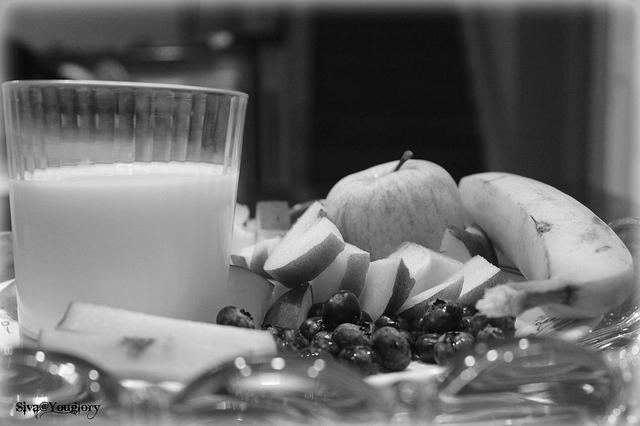glass: (5, 79, 249, 349)
